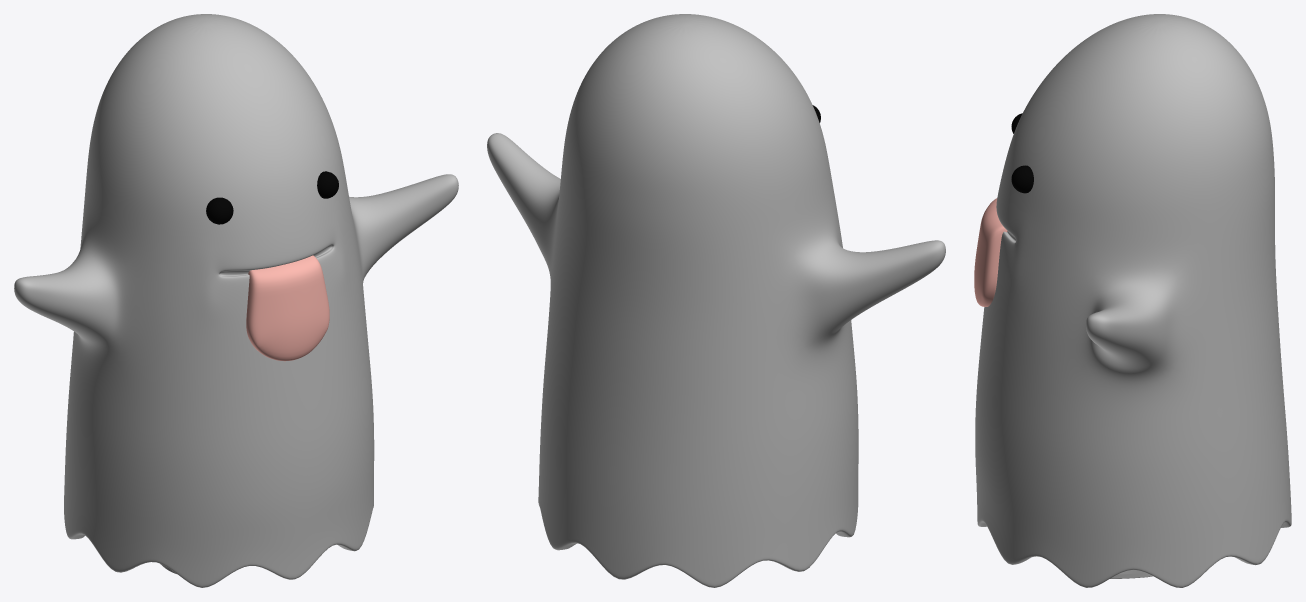
File: ghost02.gltf
3 renders of one model, left to right at view 1: azimuth 30°, elevation 25°; view 2: azimuth 150°, elevation 25°; view 3: azimuth 270°, elevation 25°, orthographic. The views are drawn at different scales.
Visible parts, largest first — view 1: node-0; view 2: node-0; view 3: node-0.
Boxes of the visible parts, x1,y1,x2,y2 form: node-0: (14, 14, 458, 587); node-0: (487, 14, 945, 587); node-0: (974, 14, 1291, 587).
Bounding box in the file's own units: 40.27 × 44.86 × 24.61.
